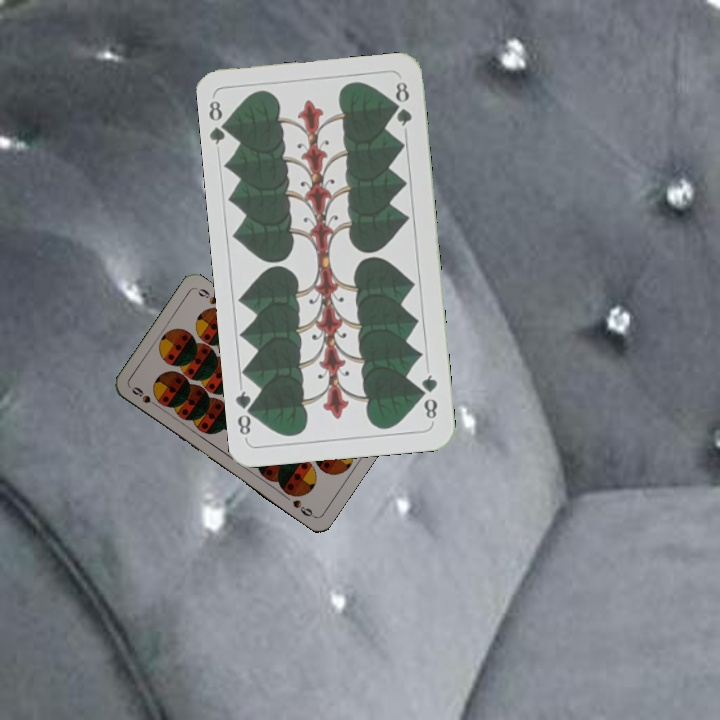G8: (205, 97, 234, 147), (416, 370, 440, 422)
S9: (128, 382, 163, 411)
